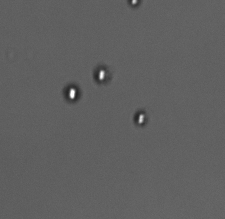Living Cell: (62, 83, 82, 103), (93, 63, 112, 84), (133, 107, 149, 128), (124, 1, 143, 8)
